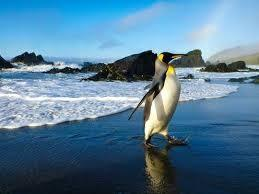king: (128, 46, 192, 160)
